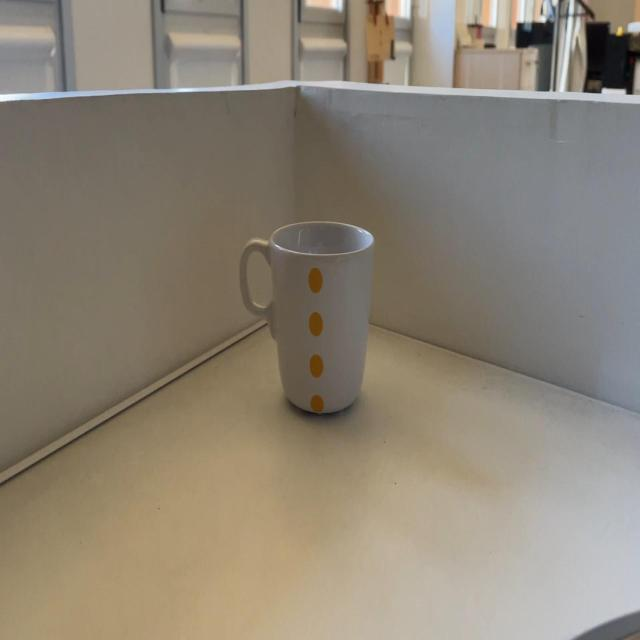cup: (237, 222, 376, 416)
